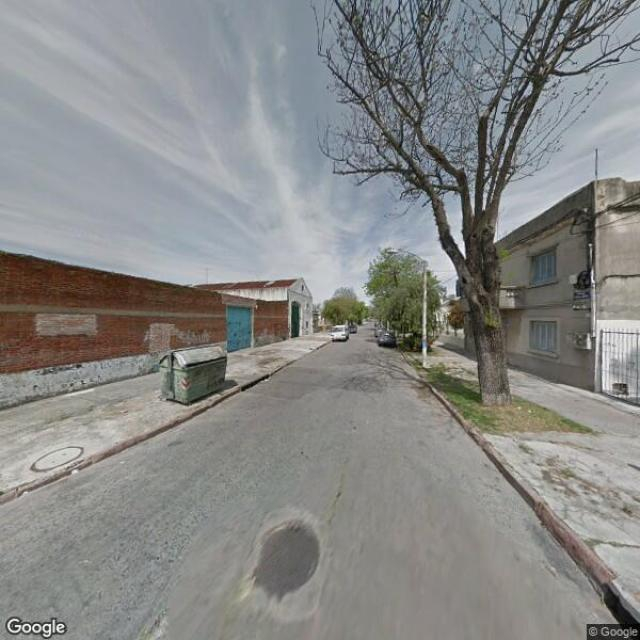garbage container: (152, 340, 234, 413)
